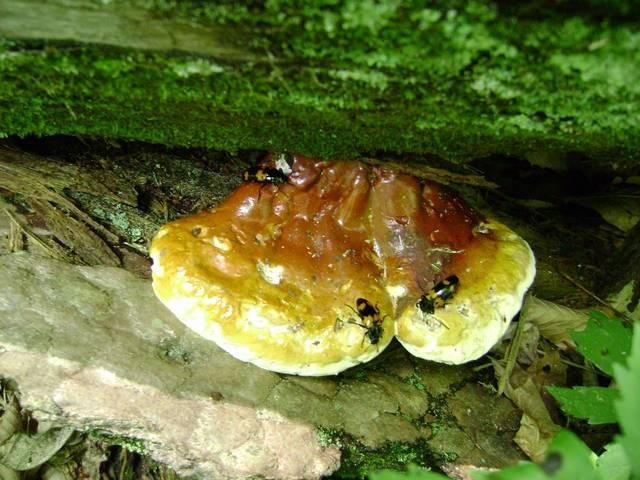Non-edible Mushroom: (147, 149, 537, 378)
